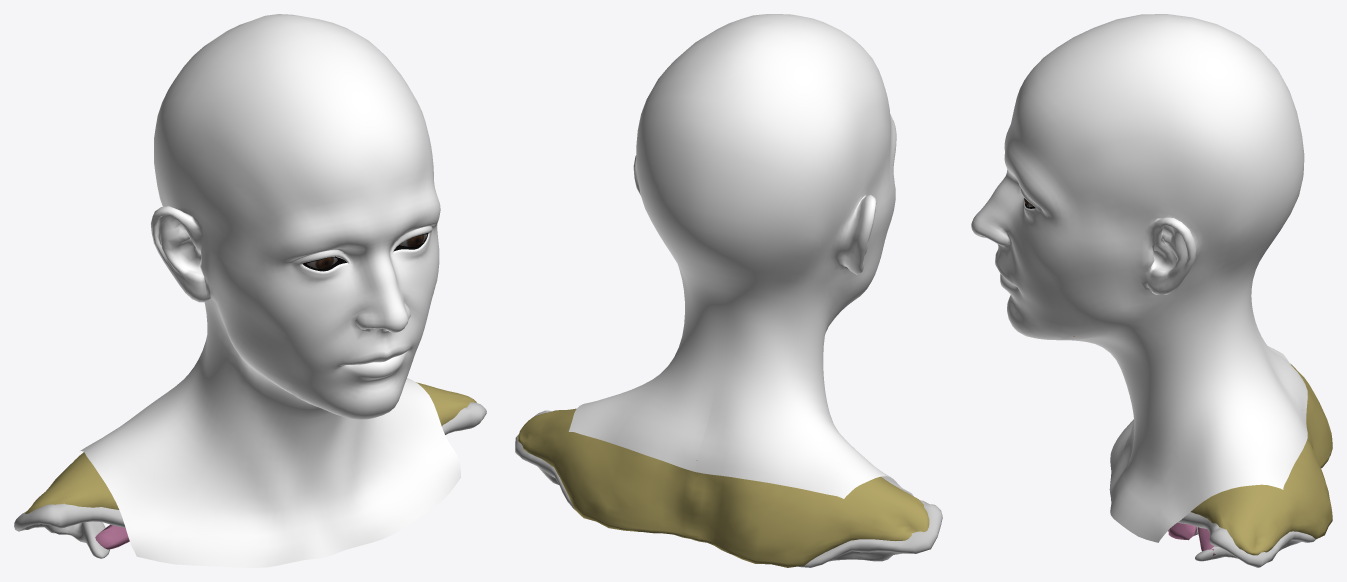
Rendered from Head.fbx.
3 views of the same model, side by side, from view 1: azimuth 30°, elevation 25°; view 2: azimuth 150°, elevation 25°; view 3: azimuth 270°, elevation 25° (orthographic). The views are drawn at different scales.
Visible parts, largest first — view 1: Skin_All, Skull_Neck, Muscles_rapeziu, Skin_Half, Skin_eyes, Muscles_neck; view 2: Skin_All, Muscles_rapeziu, Skull_Neck, Skin_Half; view 3: Skin_All, Muscles_rapeziu, Skull_Neck, Muscles_neck.
Boxes of the visible parts, bbox=[...] form: Skin_All: bbox=[80, 14, 460, 567]; Skull_Neck: bbox=[14, 402, 486, 558]; Muscles_rapeziu: bbox=[25, 382, 476, 513]; Skin_Half: bbox=[305, 105, 387, 558]; Skin_eyes: bbox=[302, 233, 428, 271]; Muscles_neck: bbox=[95, 524, 129, 549]; Skin_All: bbox=[568, 14, 913, 498]; Muscles_rapeziu: bbox=[517, 408, 929, 567]; Skull_Neck: bbox=[515, 410, 942, 567]; Skin_Half: bbox=[695, 85, 736, 473]; Skin_All: bbox=[971, 14, 1307, 542]; Muscles_rapeziu: bbox=[1191, 363, 1332, 555]; Skull_Neck: bbox=[1168, 512, 1315, 567]; Muscles_neck: bbox=[1168, 522, 1215, 555].
Bounding box in the file's own units: 1773 × 1873 × 1313.
